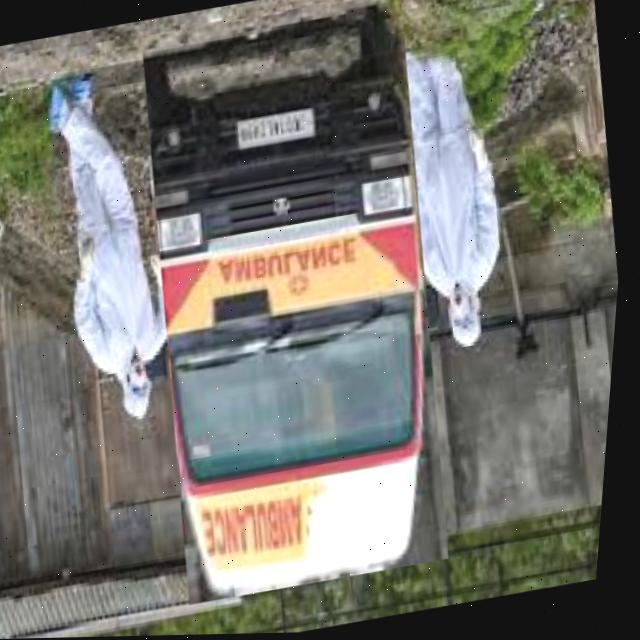Ambulance: (108, 0, 489, 608)
